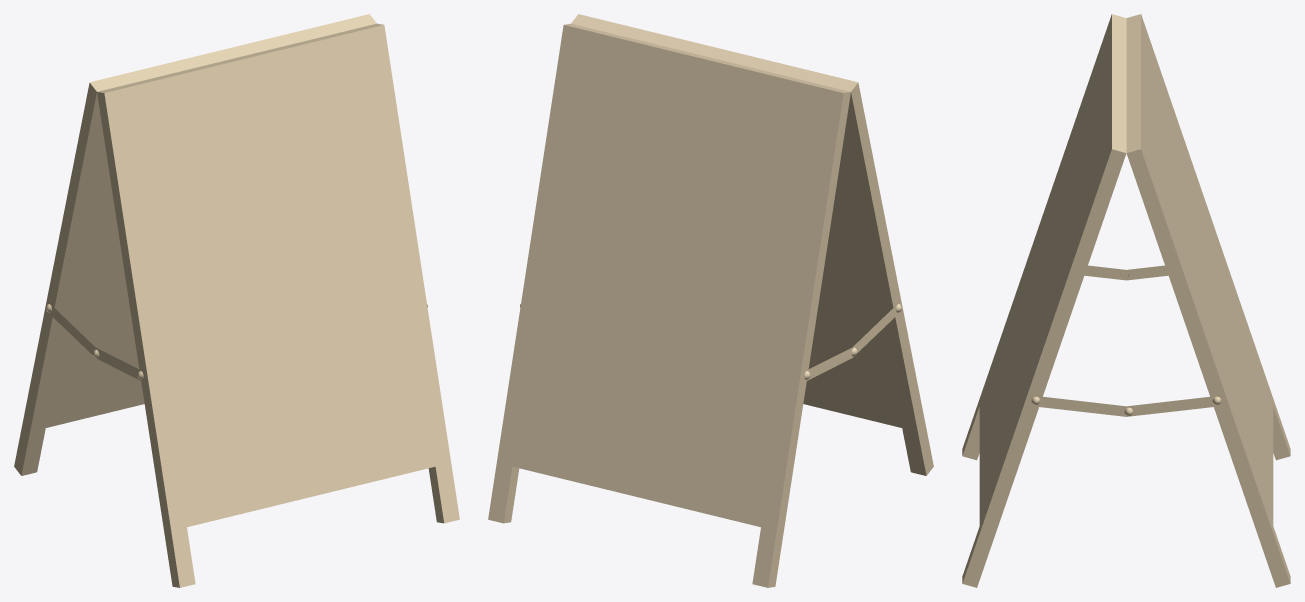
Rendered from Menuboard.fbx.
3 views of the same model, side by side, from view 1: azimuth 30°, elevation 25°; view 2: azimuth 150°, elevation 25°; view 3: azimuth 270°, elevation 25° (orthographic).
Visible parts, largest first — view 1: MenuBoard_Low; view 2: MenuBoard_Low; view 3: MenuBoard_Low.
Boxes of the visible parts, left/top/right/bottom form: MenuBoard_Low: left=14, top=14, right=459, bottom=587; MenuBoard_Low: left=488, top=14, right=933, bottom=587; MenuBoard_Low: left=962, top=14, right=1290, bottom=587.
Size of the model in its own units: 0.6864 by 1 by 0.6808.
